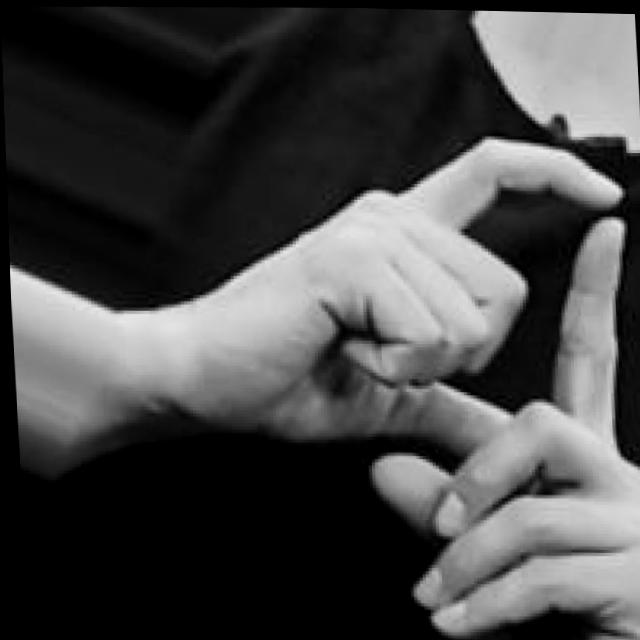D: (234, 120, 640, 640)
